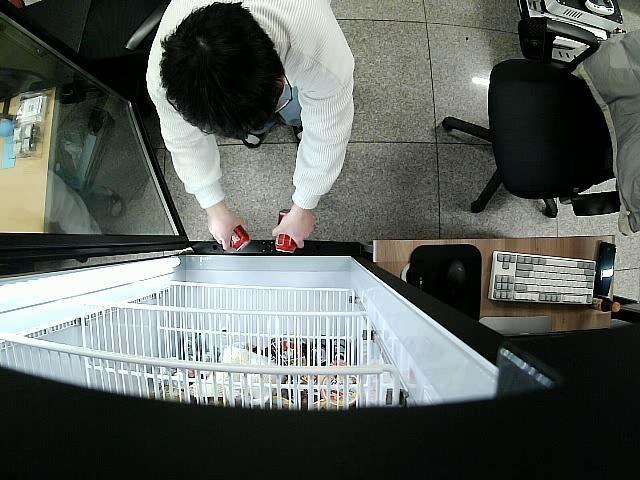11_cocaColaZero: (274, 208, 301, 255), (229, 226, 250, 250)
